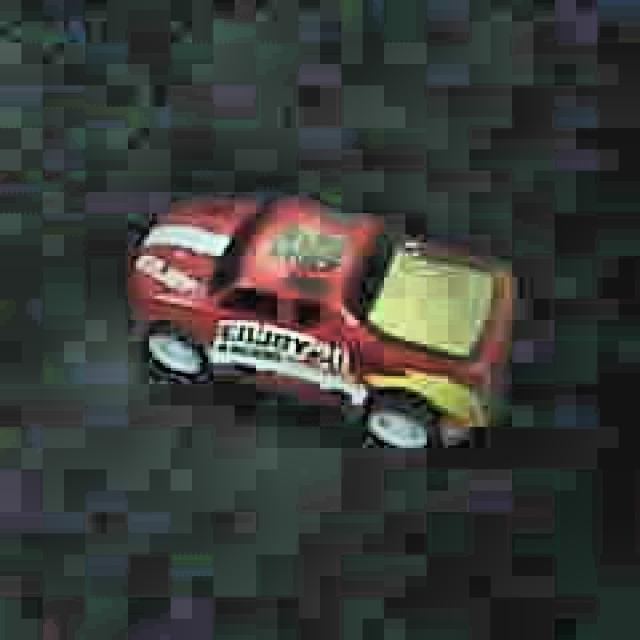car: (117, 183, 522, 479)
